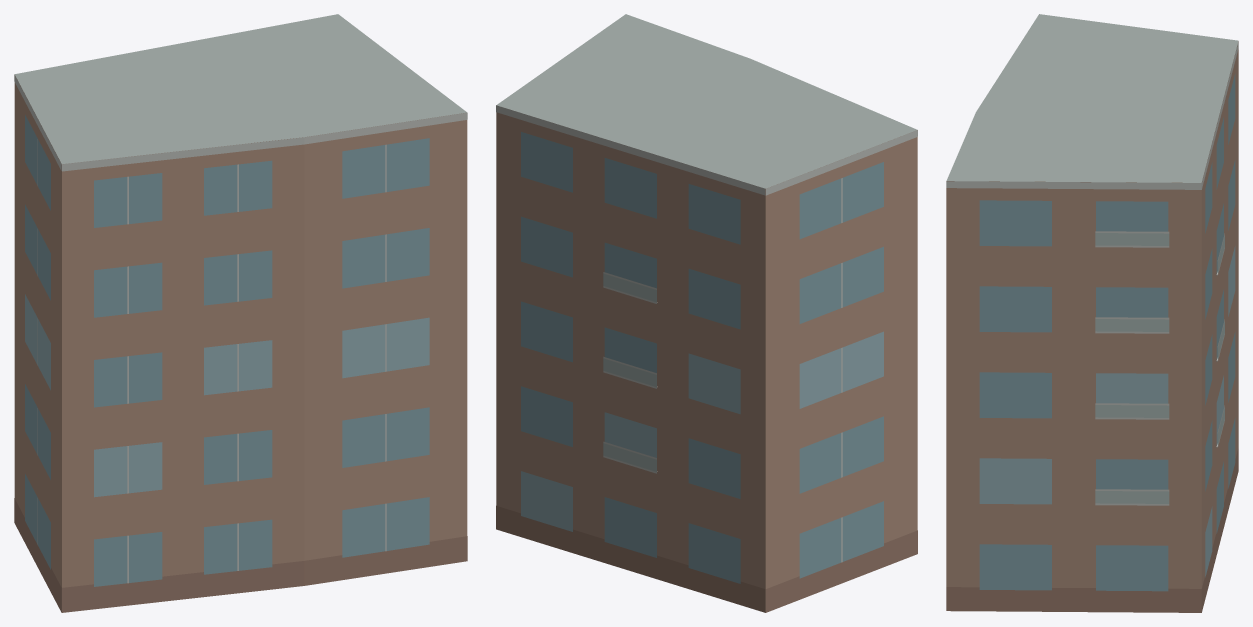
Rendered from survey-upis-32935559.glb.
3 views of the same model, side by side, from view 1: azimuth 30°, elevation 25°; view 2: azimuth 150°, elevation 25°; view 3: azimuth 270°, elevation 25° (orthographic). The views are drawn at different scales.
Parts seen in each view (by area): view 1: survey-upis-32935559.tmp; view 2: survey-upis-32935559.tmp; view 3: survey-upis-32935559.tmp.
Boxes of the visible parts, x1=… form: survey-upis-32935559.tmp: x1=14, y1=14, x2=467, y2=612; survey-upis-32935559.tmp: x1=496, y1=14, x2=917, y2=612; survey-upis-32935559.tmp: x1=946, y1=14, x2=1238, y2=612.
Bounding box in the file's own units: 12.62 × 14.95 × 9.22.
